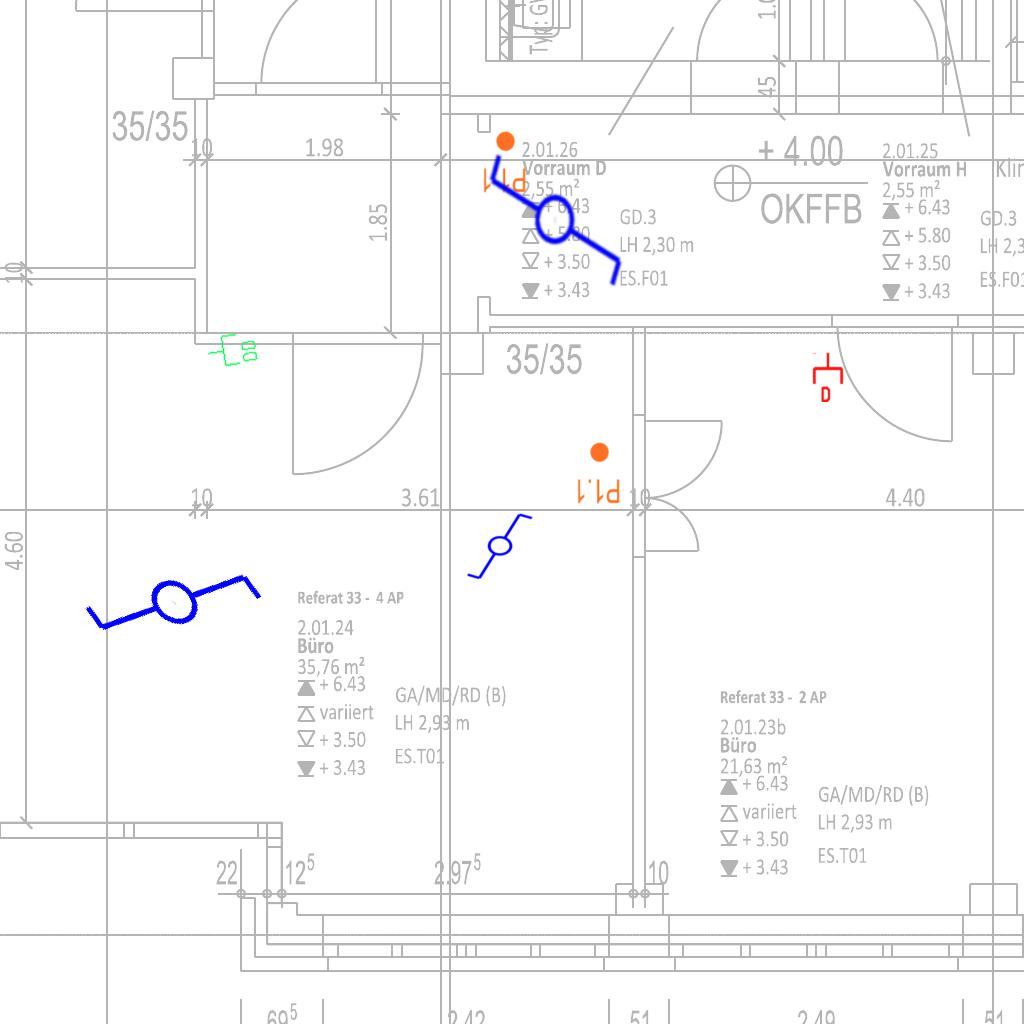Datenanschluss_einfach: (811, 352, 845, 402)
Datenanschluss_zweifach: (204, 329, 261, 371)
Downlight_LED_Einbauleuchten_Flur: (575, 441, 621, 505), (481, 130, 527, 194)
Wechselschalter: (73, 503, 286, 715), (485, 133, 629, 290), (465, 511, 543, 583)
